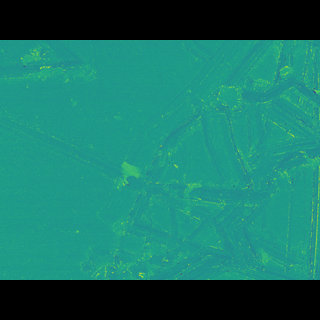Loch: (86, 69, 319, 251), (0, 120, 131, 178), (0, 70, 99, 106)
